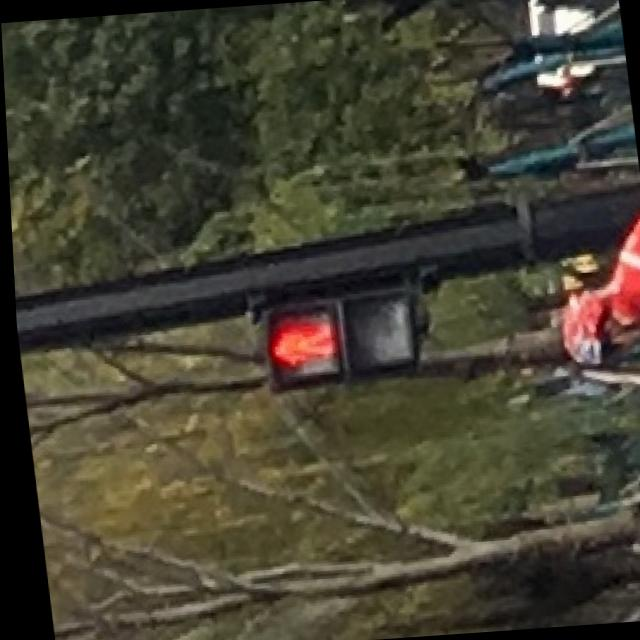red_light: (253, 304, 337, 386)
